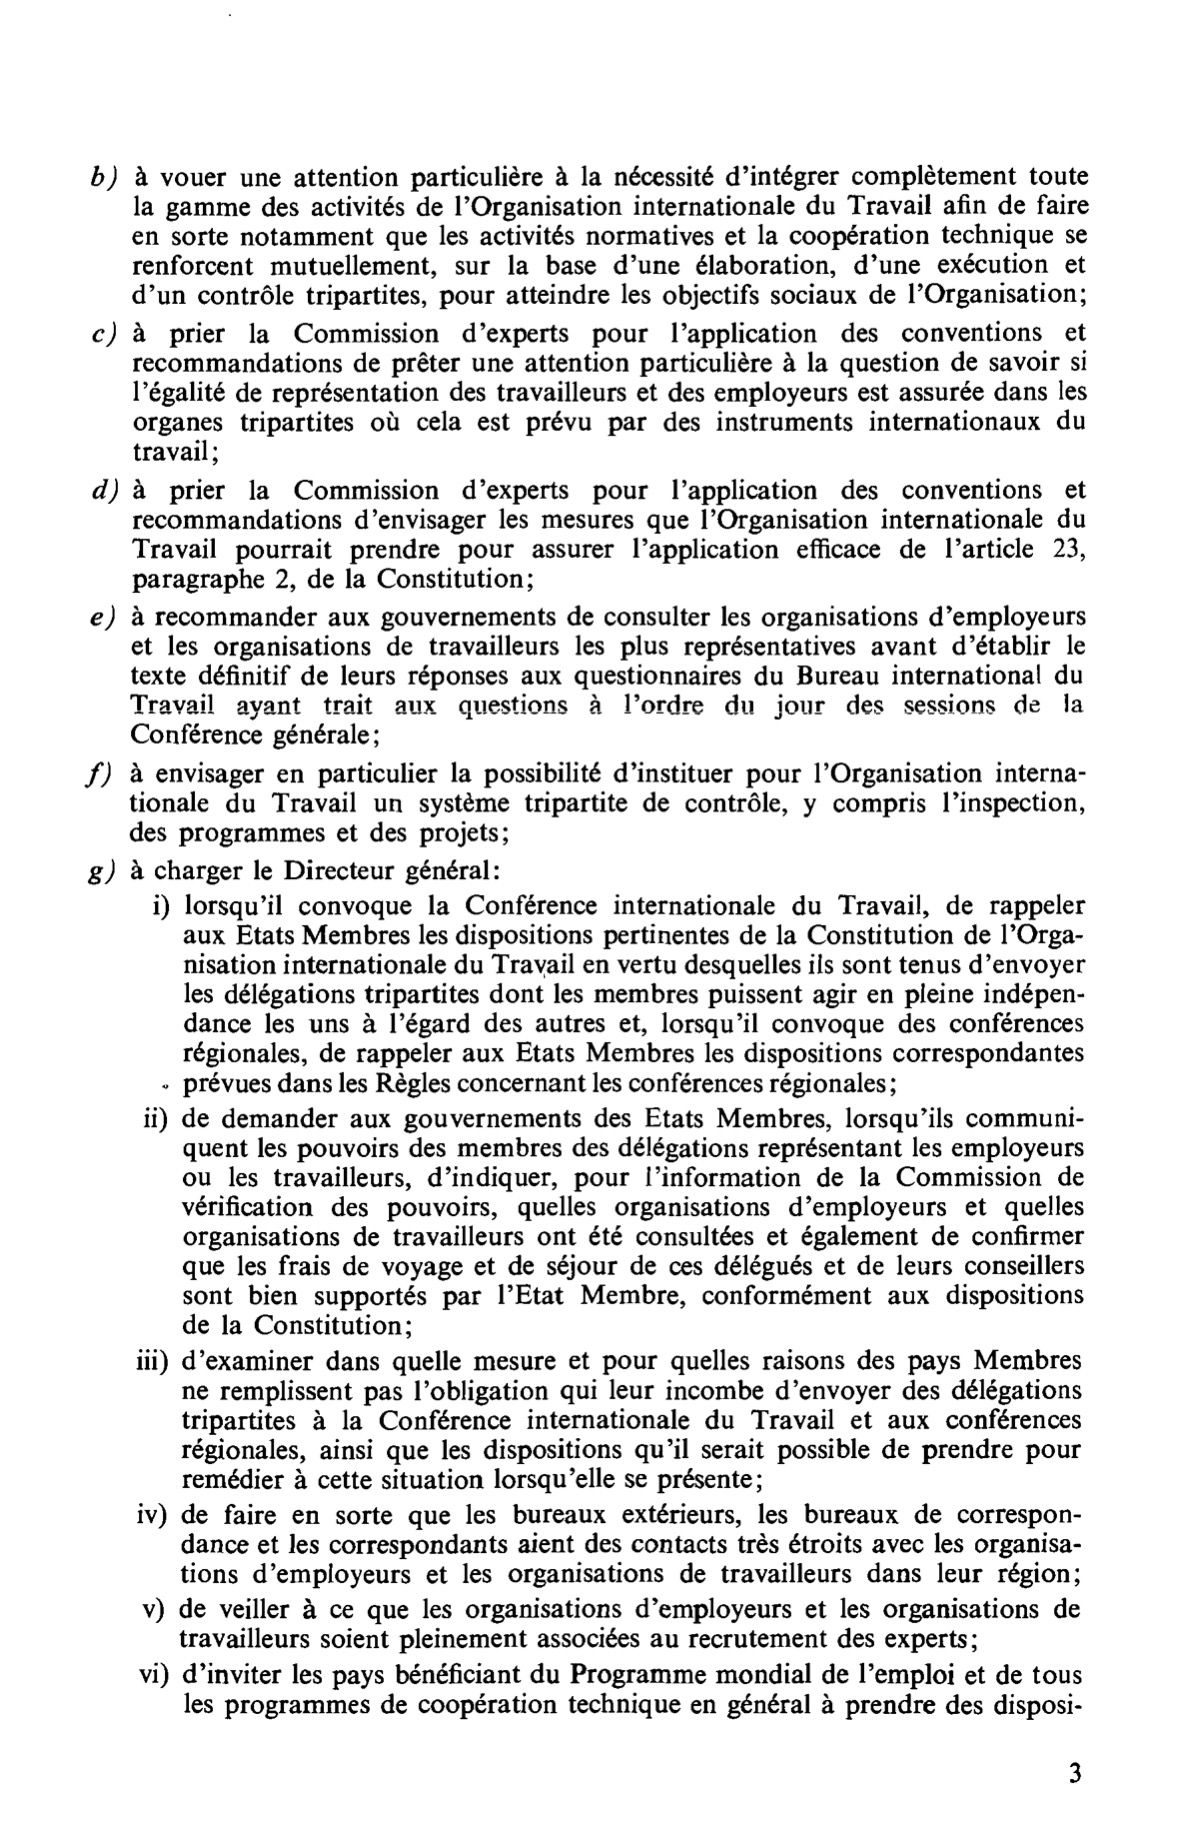MainZone-ListItem: (124, 1100, 1091, 1342), (136, 890, 1096, 1099), (75, 153, 1097, 312), (77, 598, 1096, 753), (122, 1494, 1093, 1656), (75, 314, 1096, 467), (121, 1342, 1089, 1496), (75, 470, 1097, 598), (75, 753, 1097, 851), (128, 1654, 1091, 1729), (77, 853, 511, 888)
NumberingZone: (1059, 1754, 1090, 1796)
